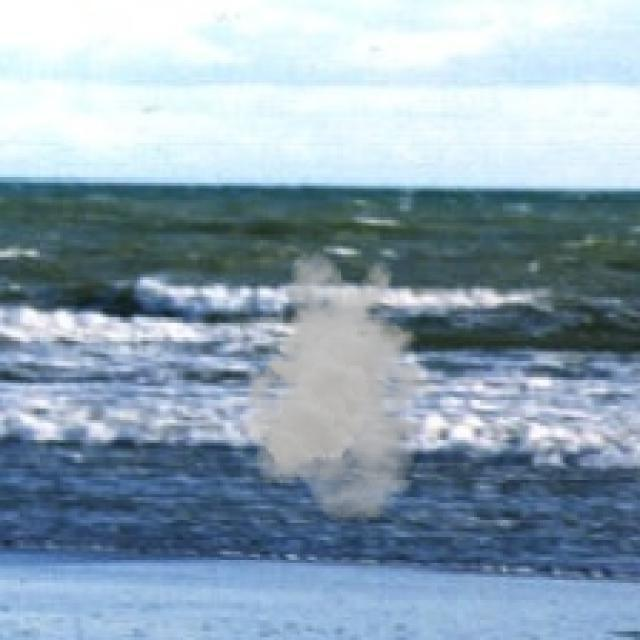Smoke: (237, 248, 452, 523)
